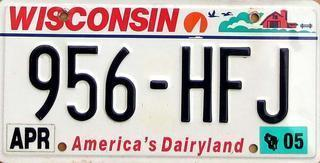placa de veiculo: (2, 0, 315, 163)
